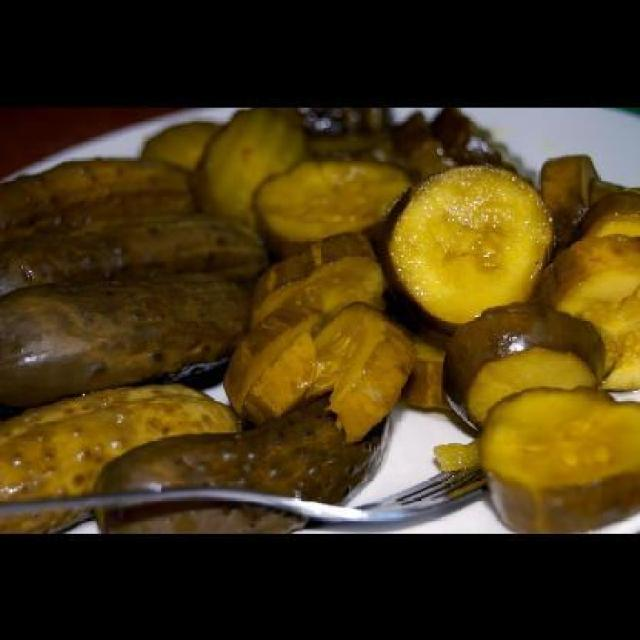cucumber: (138, 106, 638, 531), (89, 393, 391, 532), (0, 382, 240, 532), (0, 278, 249, 387), (0, 213, 268, 273), (0, 162, 188, 220)
